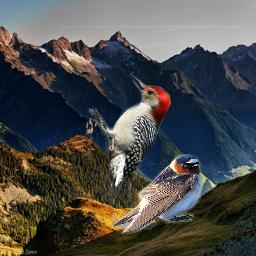Swallow: (111, 154, 203, 236)
Woodpecker: (84, 72, 174, 204)
